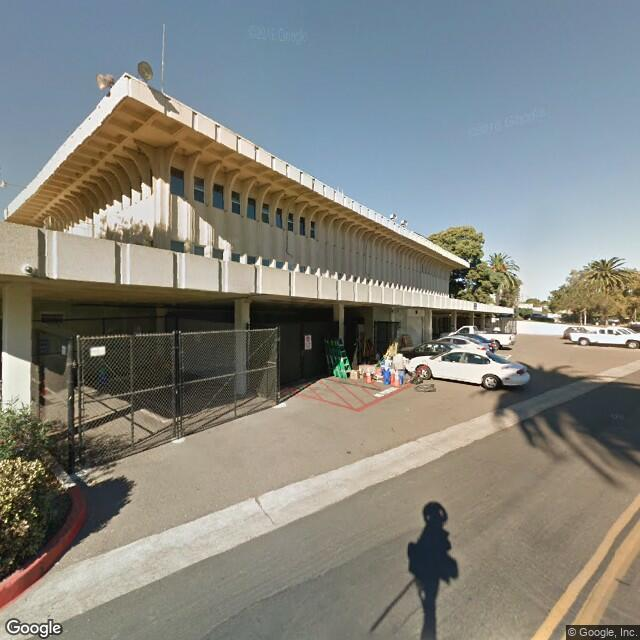litter: (382, 355, 409, 390), (353, 355, 385, 382), (412, 381, 445, 395)
